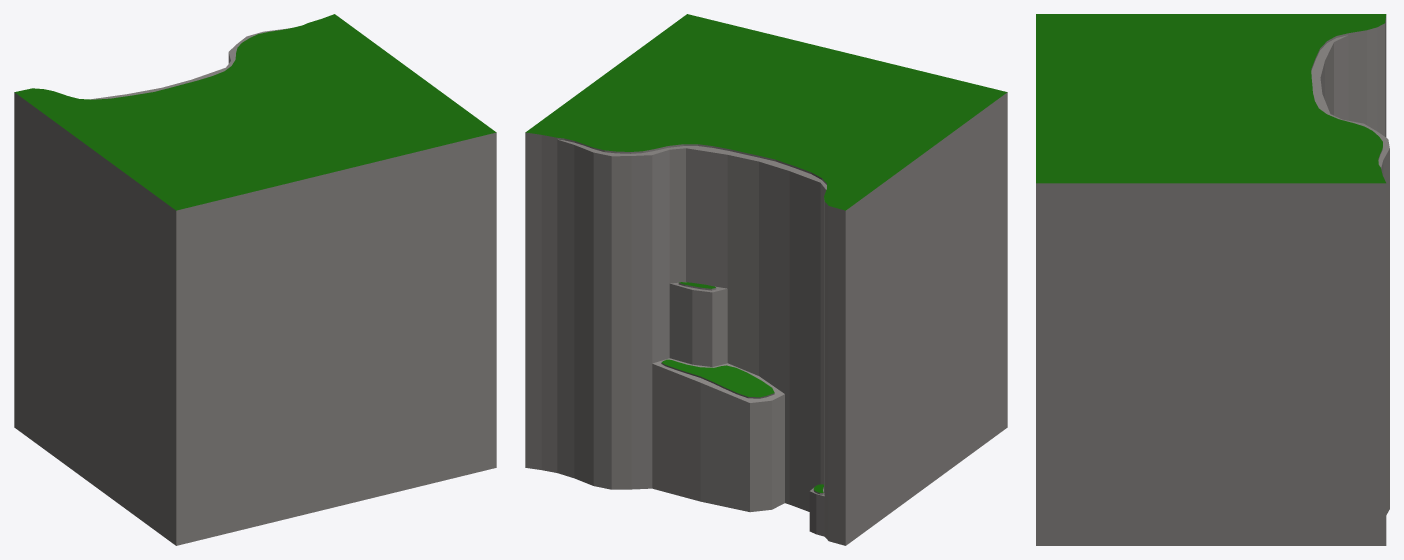
File: Side2.fbx
The picture shows the model from 3 angles, left to right: view 1: azimuth 30°, elevation 25°; view 2: azimuth 150°, elevation 25°; view 3: azimuth 270°, elevation 25°; orthographic projection. The views are drawn at different scales.
Parts seen in each view (by area): view 1: Plane.028; view 2: Plane.028; view 3: Plane.028.
Boxes of the visible parts, bbox=[...] form: Plane.028: bbox=[14, 14, 496, 545]; Plane.028: bbox=[525, 14, 1007, 545]; Plane.028: bbox=[1036, 14, 1389, 545].
Bounding box in the file's own units: 100 × 100 × 88.38.
